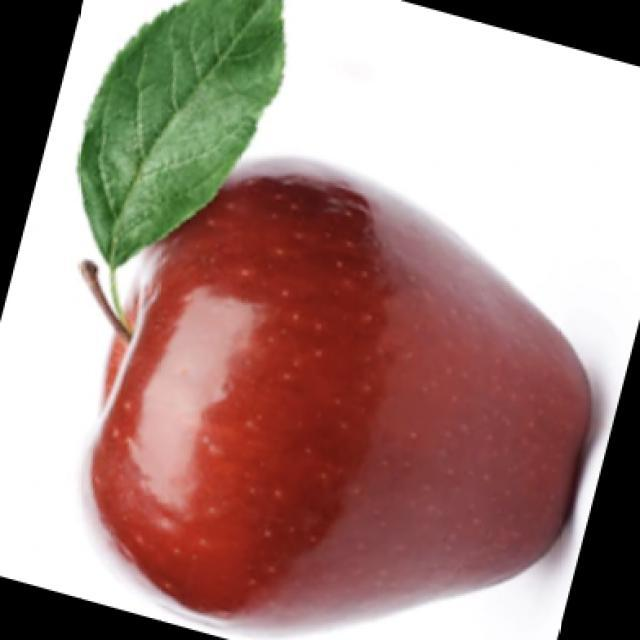Fresh Apple: (99, 171, 603, 640)
